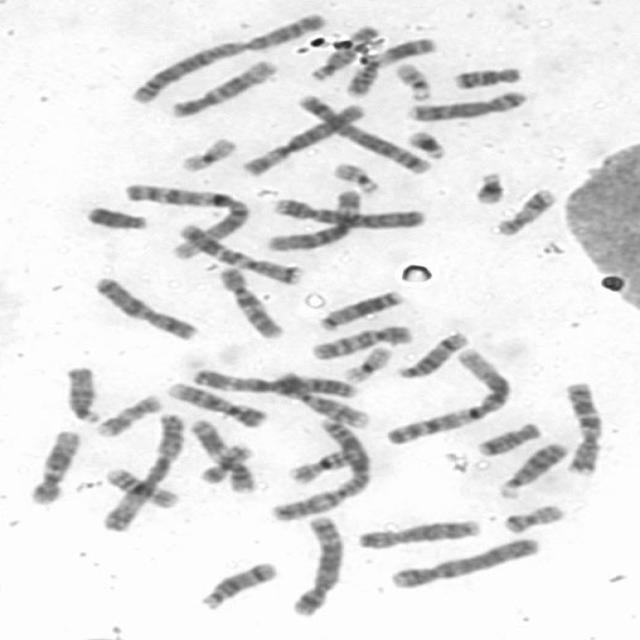A1: (379, 346, 513, 446), (120, 178, 252, 262)
A2: (124, 10, 330, 106), (263, 413, 373, 522)
A3: (96, 408, 188, 533), (188, 364, 362, 399)
B4: (386, 533, 543, 591), (271, 195, 427, 231)
B5: (291, 90, 435, 175), (286, 512, 346, 617)
C10: (213, 262, 287, 341), (307, 322, 412, 361)
C11: (338, 31, 440, 99), (184, 415, 258, 493)
C12: (166, 55, 280, 118), (24, 424, 82, 505)
C6: (237, 99, 369, 177), (261, 185, 365, 252)
C7: (171, 219, 306, 287), (558, 376, 606, 476)
C8: (404, 86, 530, 123), (352, 515, 482, 550)
C9: (272, 369, 373, 428), (162, 376, 270, 428)
D13: (495, 439, 571, 500), (315, 286, 406, 332)
D14: (194, 556, 280, 612), (394, 329, 470, 380)
D15: (301, 21, 383, 82), (58, 362, 103, 425)
E16: (98, 462, 182, 509), (287, 446, 354, 486)
E17: (490, 185, 558, 237), (94, 391, 166, 439)
E18: (474, 418, 544, 457), (449, 62, 524, 90)
F19: (174, 134, 238, 173), (336, 343, 393, 384)
F20: (194, 440, 257, 486), (498, 499, 568, 535)
G21: (400, 125, 450, 161), (469, 167, 509, 206)
G22: (328, 159, 382, 195), (392, 59, 434, 101)
X: (87, 271, 202, 341)
Y: (81, 202, 151, 232)
